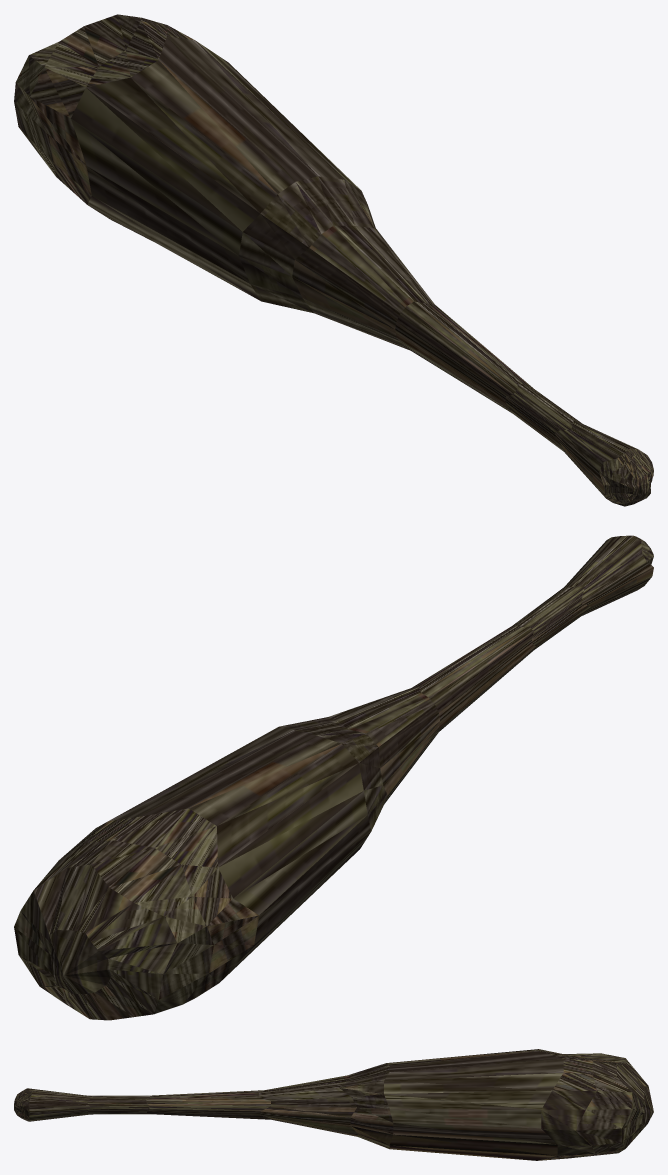
Rendered from club.FBX.
3 views of the same model, one above another, from view 1: azimuth 30°, elevation 25°; view 2: azimuth 150°, elevation 25°; view 3: azimuth 270°, elevation 25° (orthographic). The views are drawn at different scales.
Visible parts, largest first — view 1: MeshData; view 2: MeshData; view 3: MeshData.
Part boxes in pixels (x1,y1,x2,y2): MeshData: (14,14,653,506); MeshData: (14,535,653,1020); MeshData: (14,1049,653,1160).
Bounding box in the file's own units: 0.6046 × 0.5636 × 3.26.
Materials: 1 (1 with a texture image).
